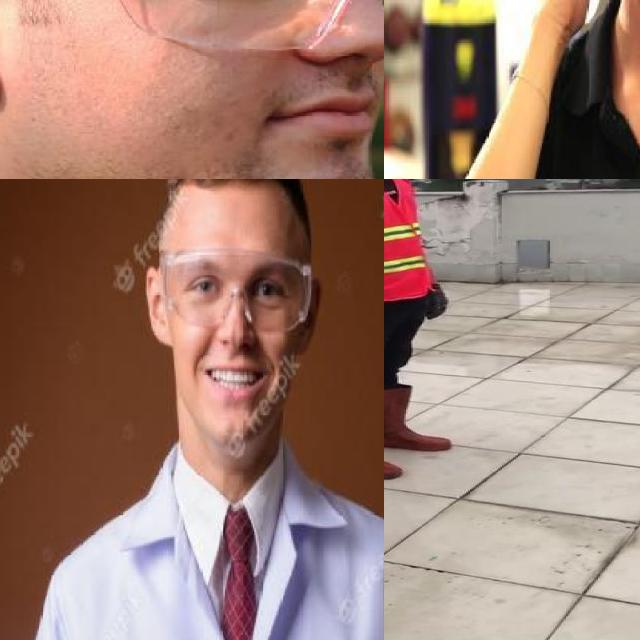boots: (384, 382, 454, 452)
face_nomask: (189, 0, 384, 175), (178, 265, 295, 398)
glasses: (0, 0, 384, 56), (157, 244, 313, 335)
head_nohelmet: (158, 179, 313, 217)
person: (43, 179, 384, 640), (384, 179, 469, 485), (504, 0, 640, 179)
vest: (384, 179, 434, 302)
